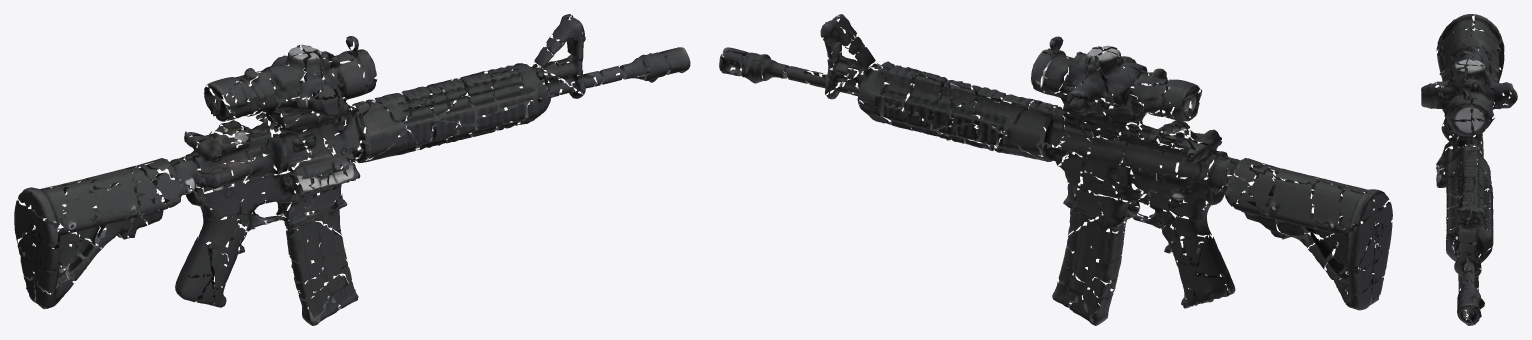
The picture shows the model from 3 angles, left to right: view 1: azimuth 30°, elevation 25°; view 2: azimuth 150°, elevation 25°; view 3: azimuth 270°, elevation 25°; orthographic projection. The views are drawn at different scales.
Size of the model in its own units: 200 by 80.77 by 29.27.
1 material, 1 textured.
